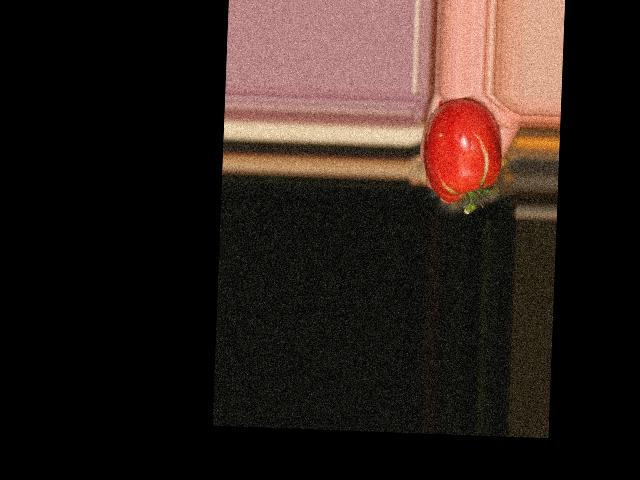tomato: (421, 97, 502, 204)
